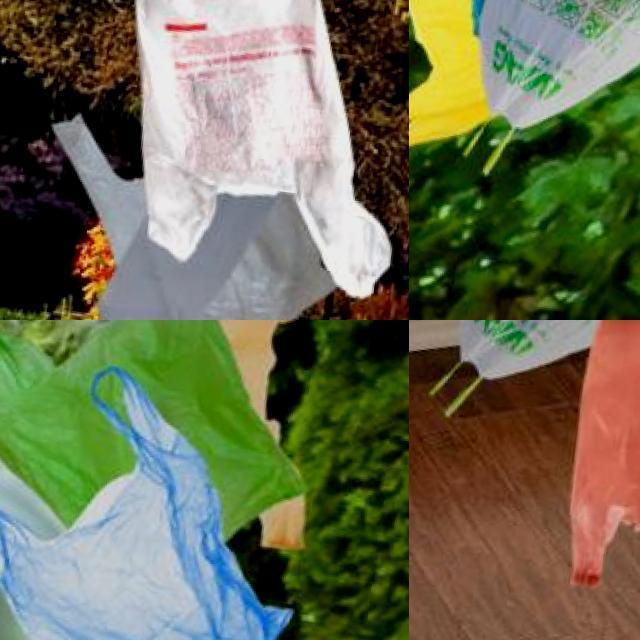waste: (91, 0, 409, 301), (0, 368, 315, 640), (0, 320, 339, 567), (409, 0, 640, 180), (472, 0, 640, 146), (572, 320, 640, 594), (442, 320, 640, 413)
